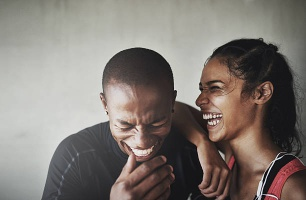female: (185, 44, 270, 153)
male: (96, 55, 180, 163)
